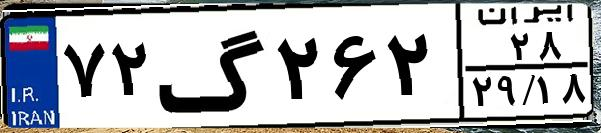1: (535, 70, 560, 125)
2: (270, 28, 330, 110), (385, 28, 445, 110), (110, 28, 156, 98), (508, 27, 537, 80), (470, 70, 495, 125)
6: (330, 28, 385, 110)
7: (57, 26, 110, 100)
8: (560, 70, 590, 125), (537, 27, 568, 80)
9: (495, 70, 520, 125)
گ: (156, 12, 270, 120)
